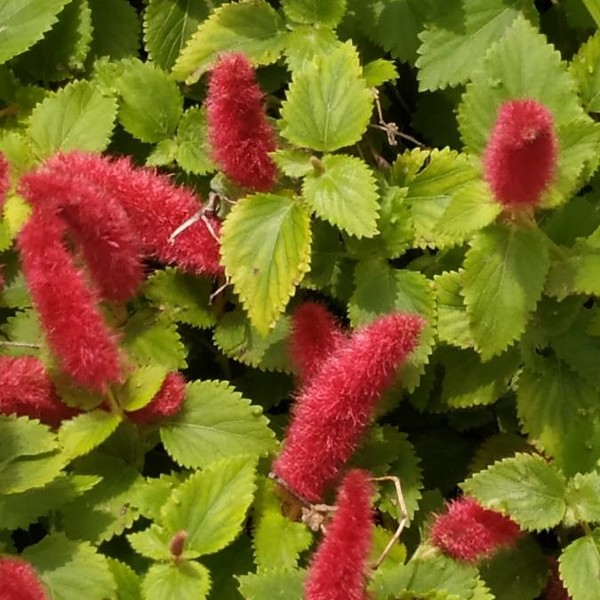obstacle: (32, 66, 523, 480)
